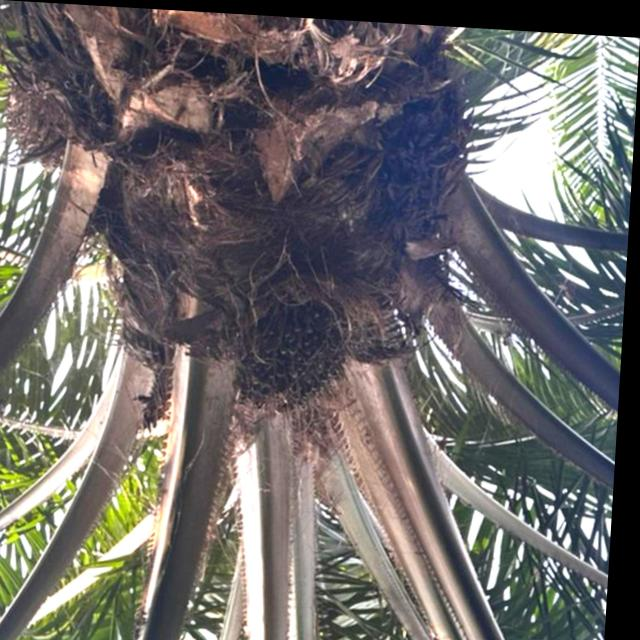unripe: (221, 265, 370, 419)
